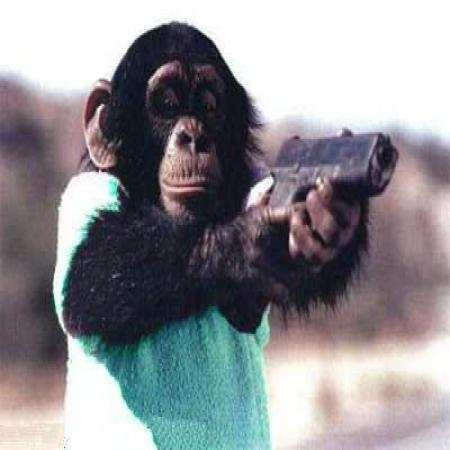Pistol: (266, 128, 400, 214)
